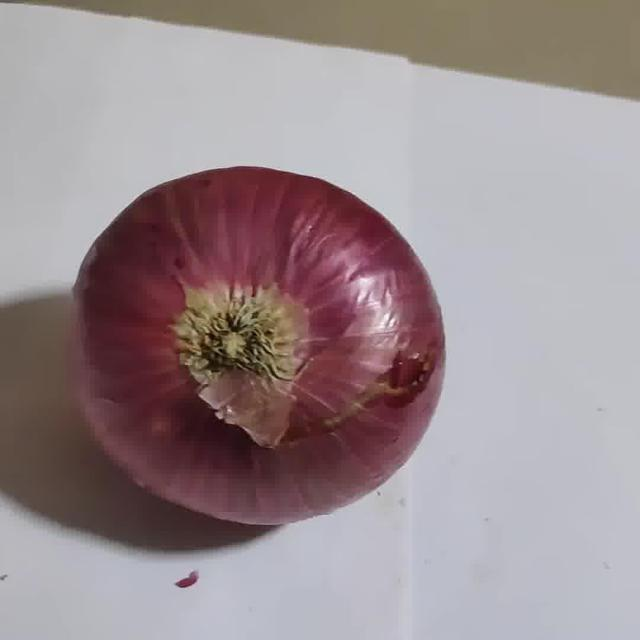Onion: (73, 167, 444, 526)
